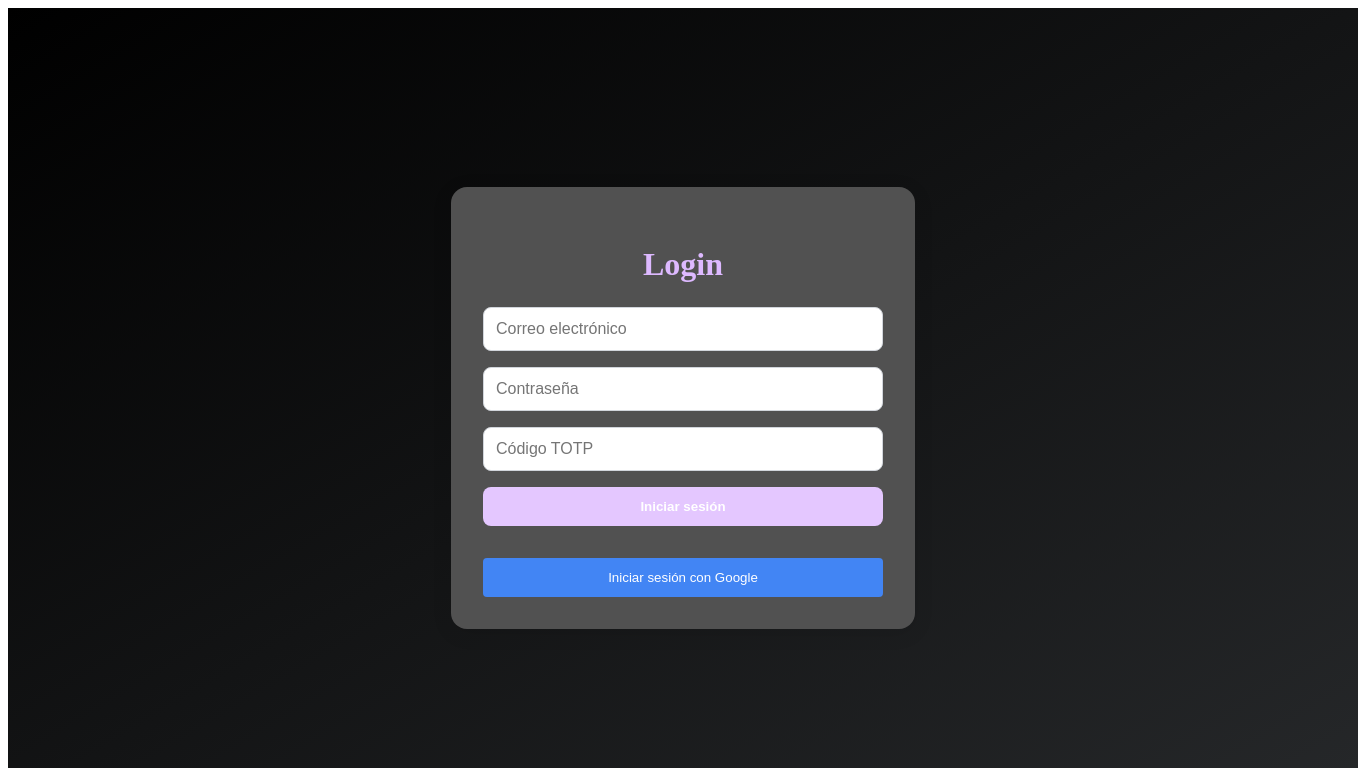
Scenario: Login › should show error for short password
In the field with placeholder "Correo electrónico": x=683, y=329 [483, 307, 883, 351], type "test@example.com"
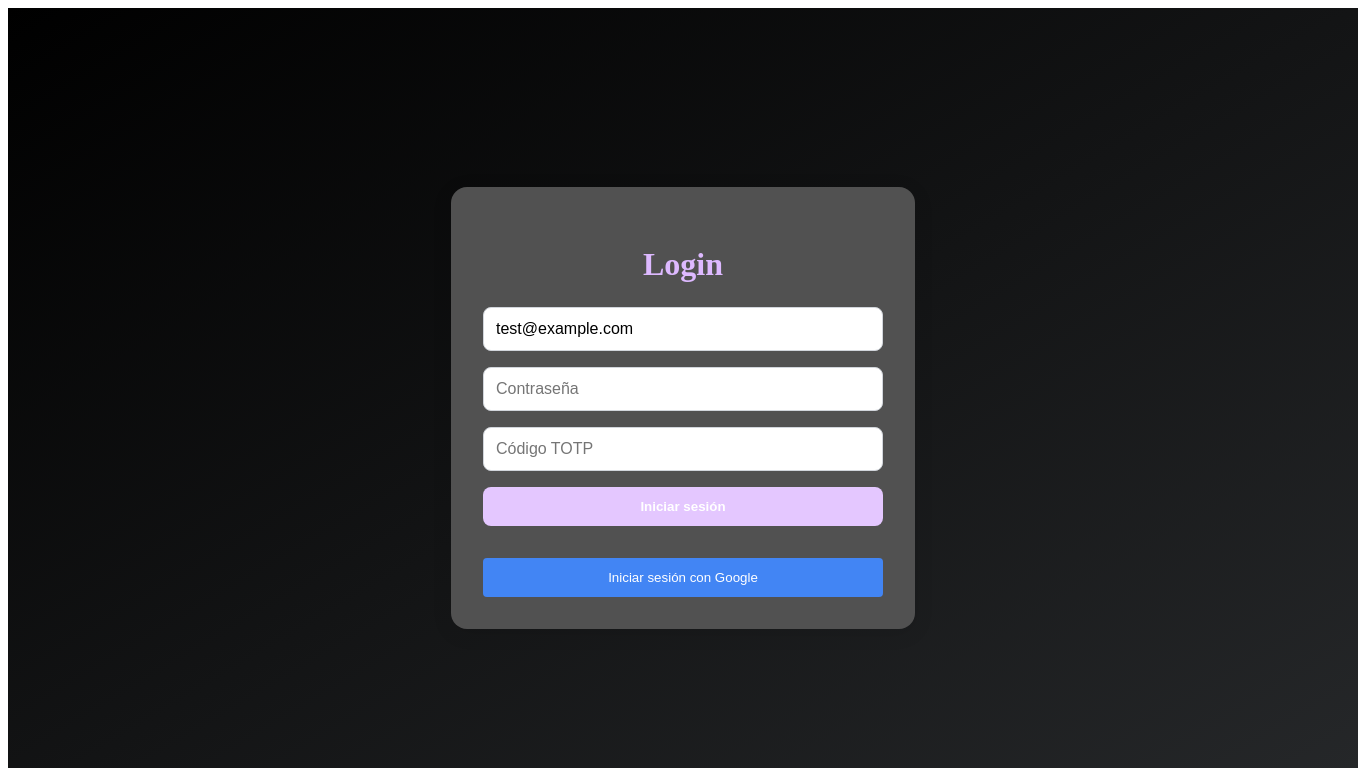
In the password field with placeholder "Contraseña": x=683, y=389 [483, 367, 883, 411], type "short"
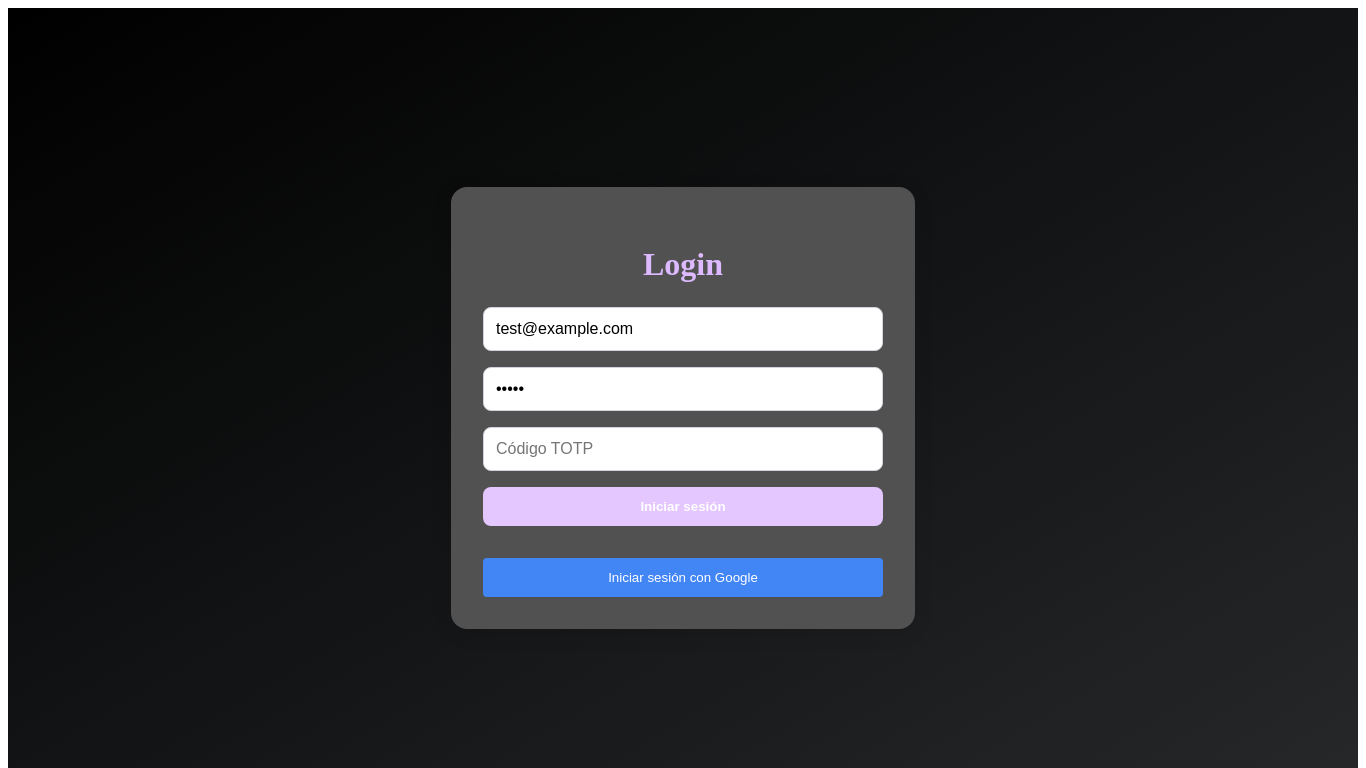
In the field with placeholder "Código TOTP": x=683, y=449 [483, 427, 883, 471], type "123456"
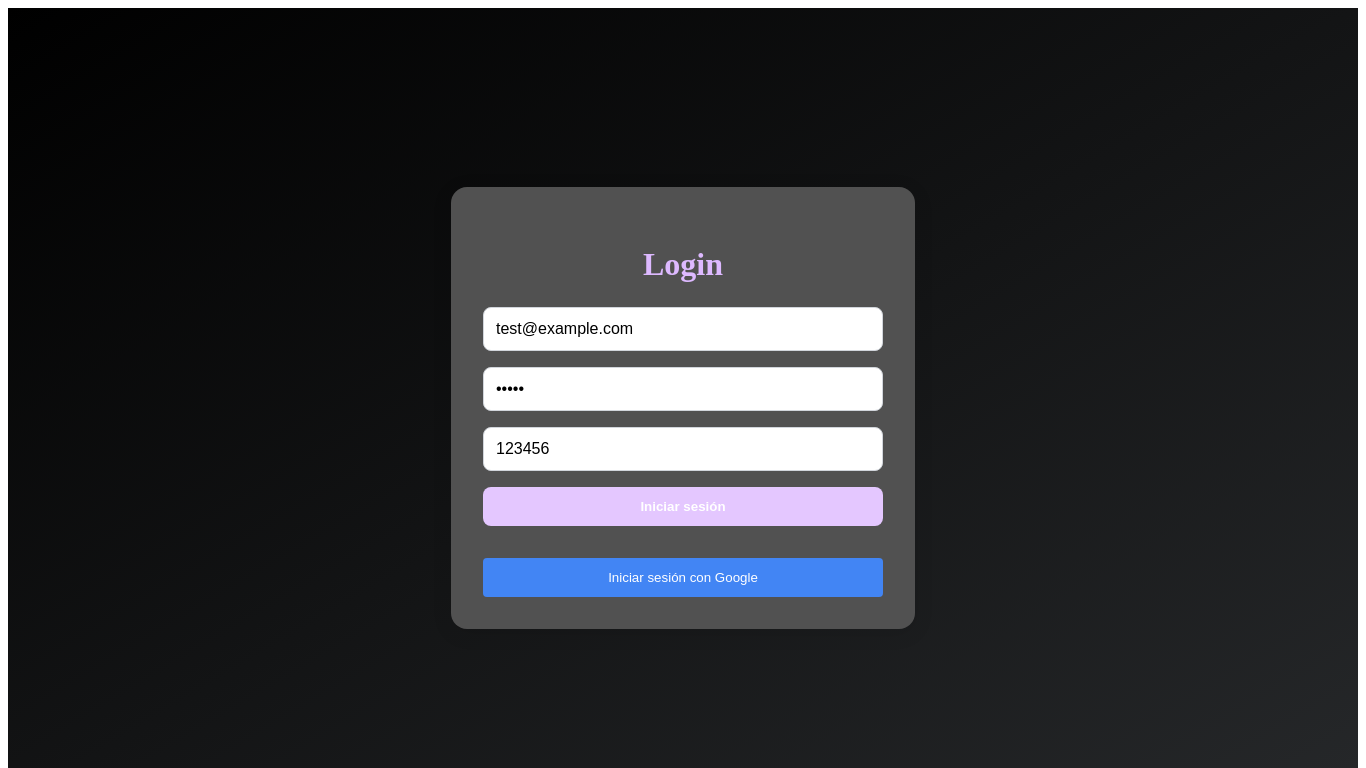
Click the button "Iniciar sesión": x=683, y=506 [483, 487, 883, 526]
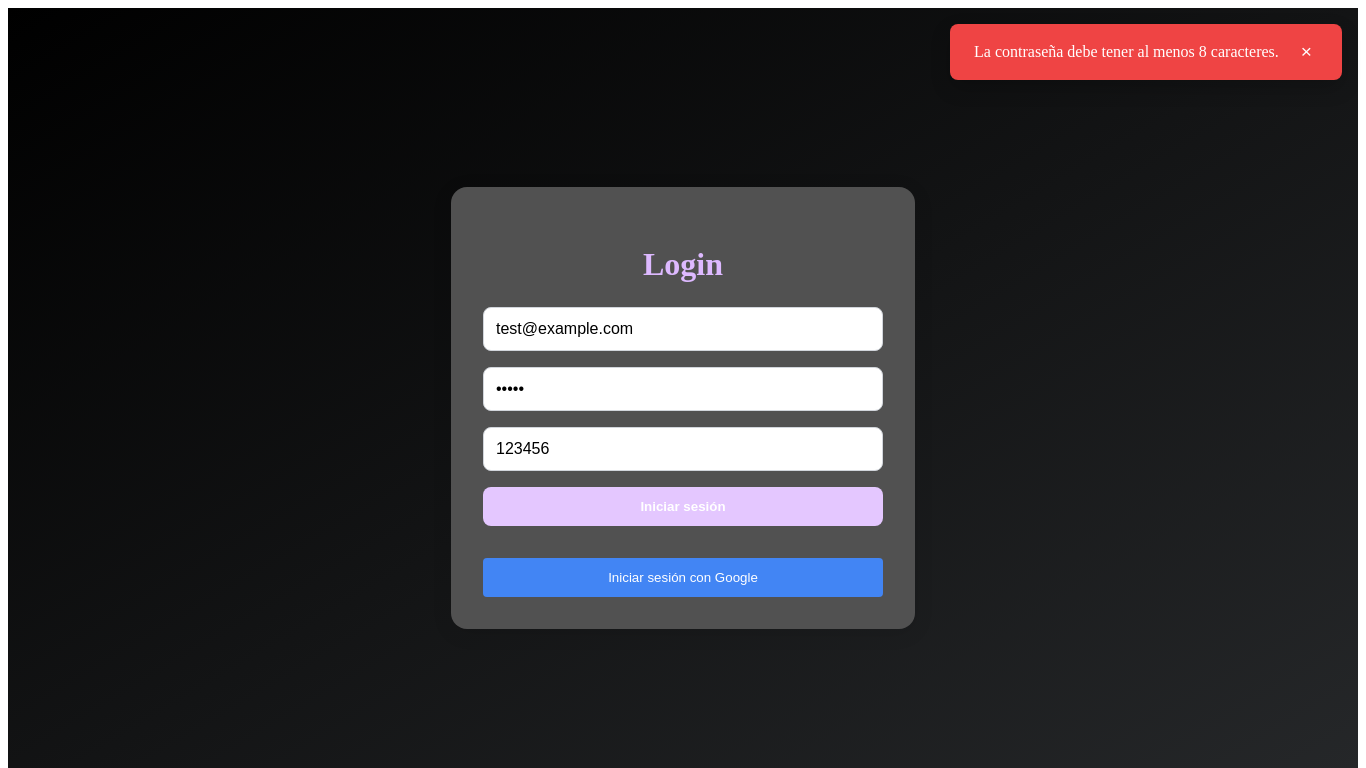
Check: the text "La contraseña debe tener al menos 8 caracteres." is shown, box [974, 43, 1279, 61]
